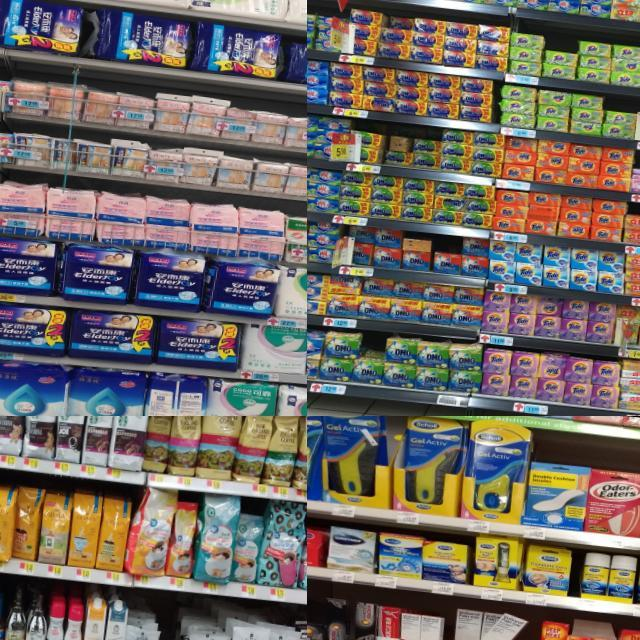void: (154, 599, 181, 640), (501, 625, 540, 640)
